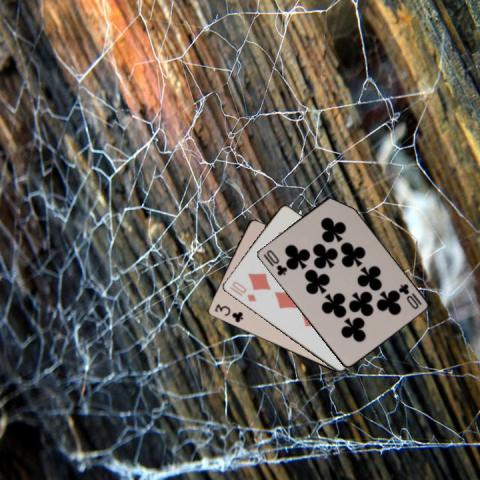10c: (260, 247, 289, 277), (395, 280, 423, 310)
10d: (229, 279, 257, 303)
3c: (211, 301, 244, 324)
